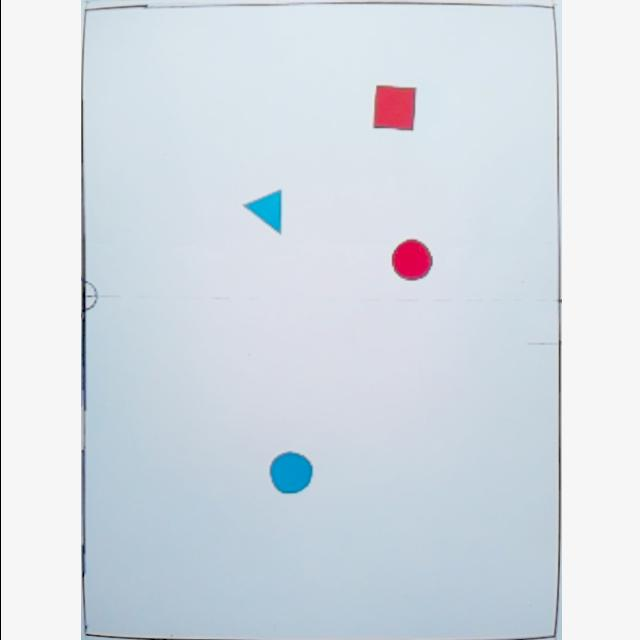blueCircle: (267, 451, 313, 495)
blueTriangle: (238, 180, 286, 236)
redCircle: (388, 238, 428, 280)
redSquare: (369, 82, 416, 134)
